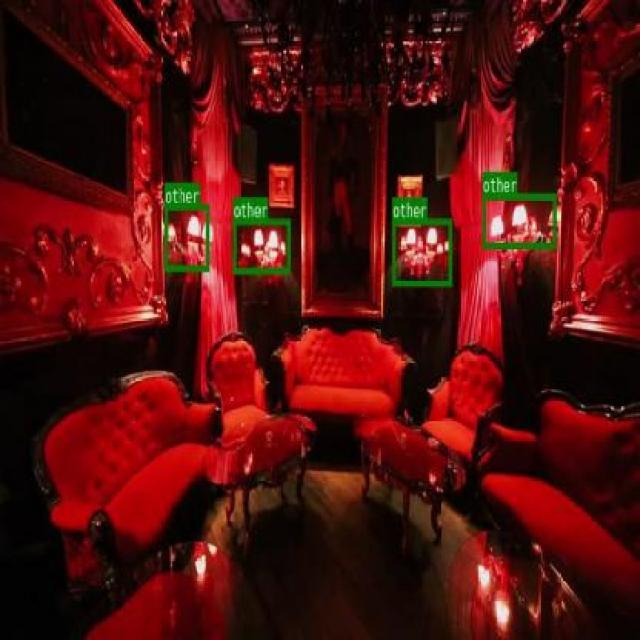other: (482, 192, 556, 246), (392, 218, 452, 284), (232, 218, 290, 272), (164, 203, 208, 271)
